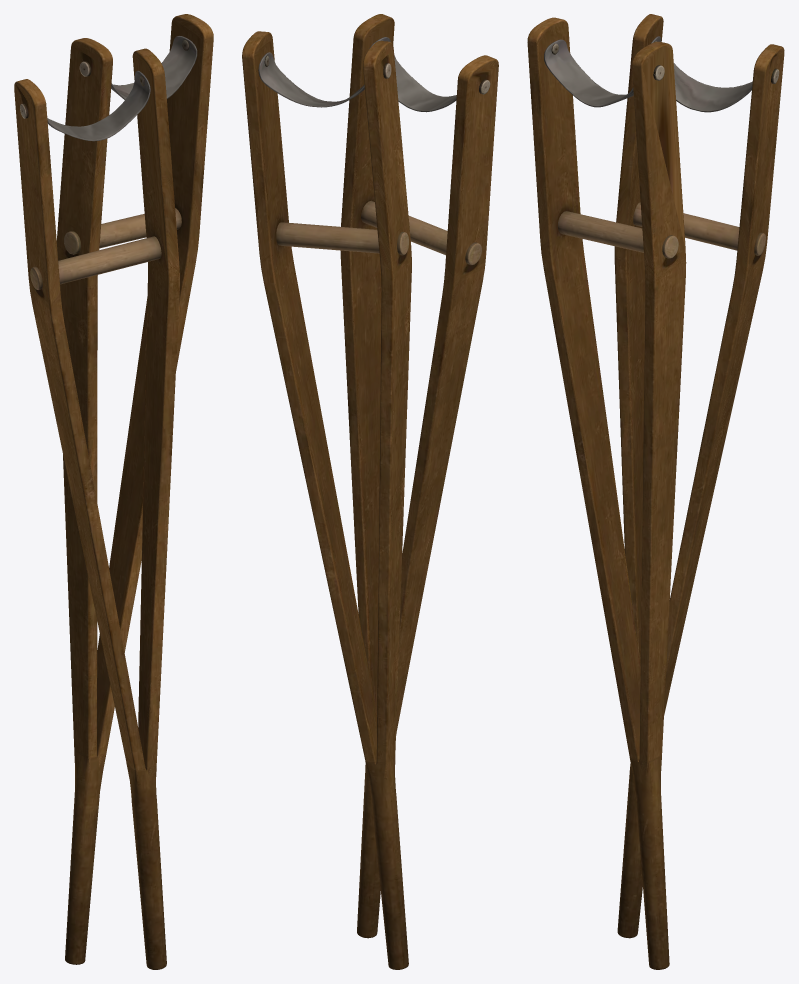
File: vintage-crutches-01.glb
3 renders of one model, left to right at view 1: azimuth 30°, elevation 25°; view 2: azimuth 150°, elevation 25°; view 3: azimuth 330°, elevation 25°, orthographic.
Visible parts, largest first — view 1: vintage_crutches_01; view 2: vintage_crutches_01; view 3: vintage_crutches_01.
Boxes of the visible parts, x1,y1,x2,y2 form: vintage_crutches_01: [14, 14, 213, 969]; vintage_crutches_01: [242, 14, 498, 969]; vintage_crutches_01: [527, 14, 784, 969].
Size of the model in its own units: 0.3836 by 1.6 by 0.2036.
1 material, 1 textured.
